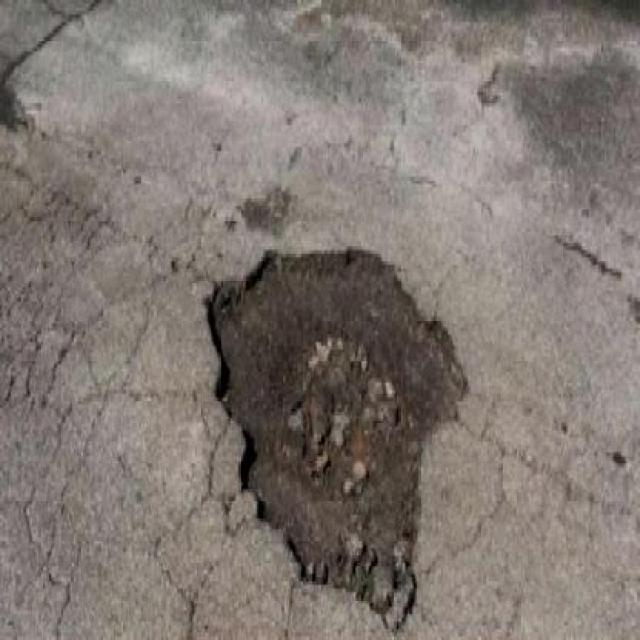pothole: (195, 249, 468, 631)
